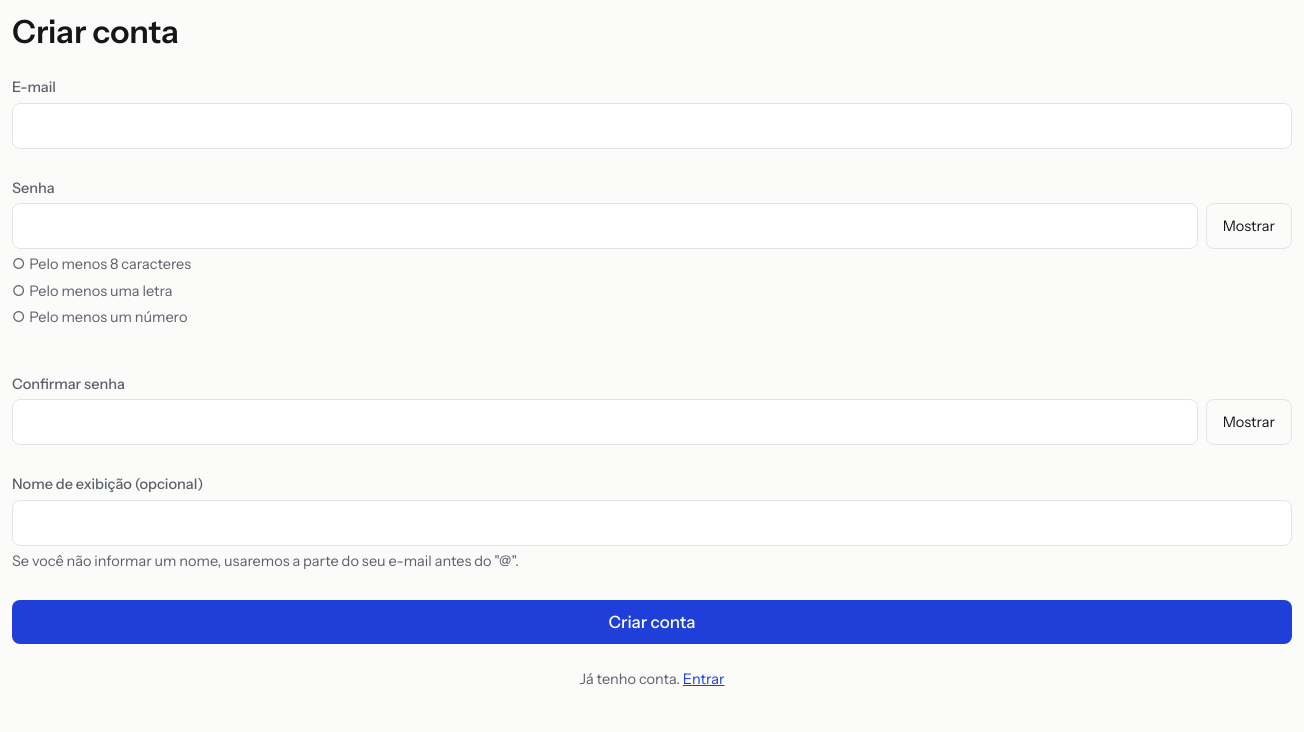
Test: RegisterComponent (FE-08) › e-mail inválido mostra erro junto ao campo antes do envio (CA-04)
Step 1. Type "invalido" into the field labelled "E-mail" → (652, 126), box [12,102,1292,148]
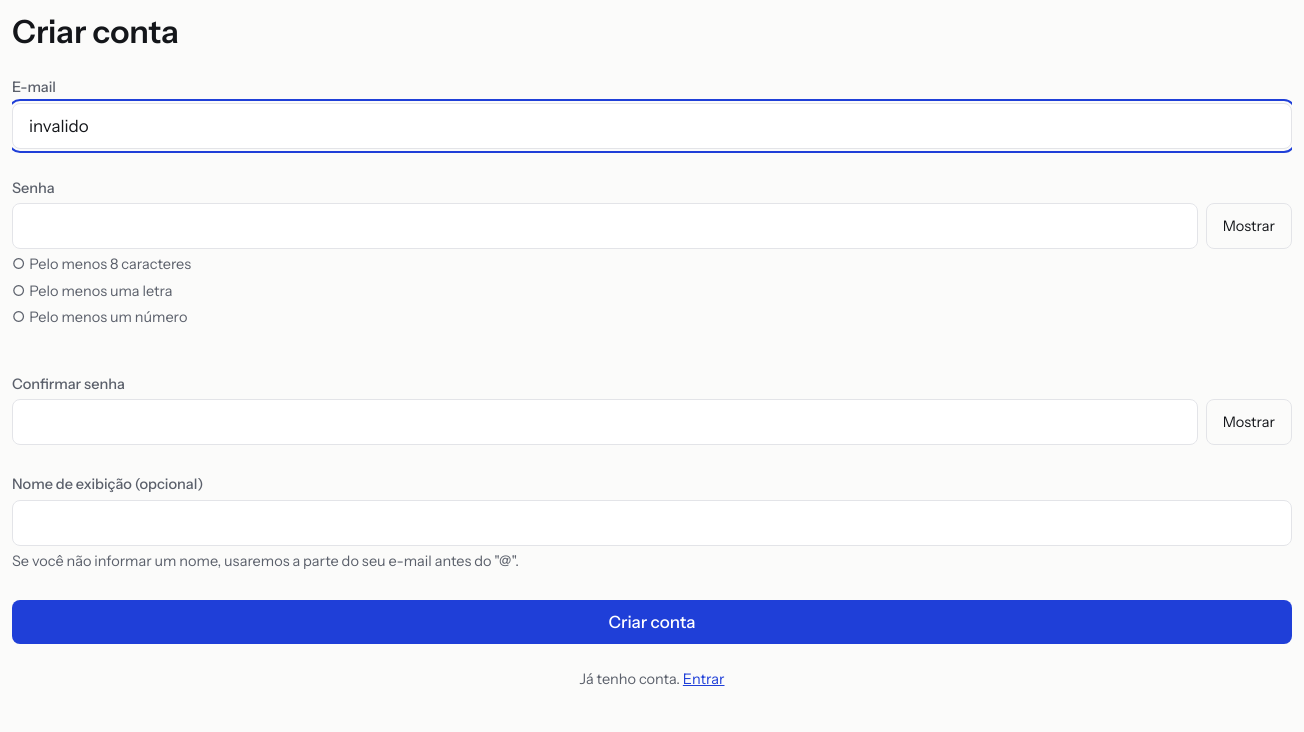
Step 2. Press Tab
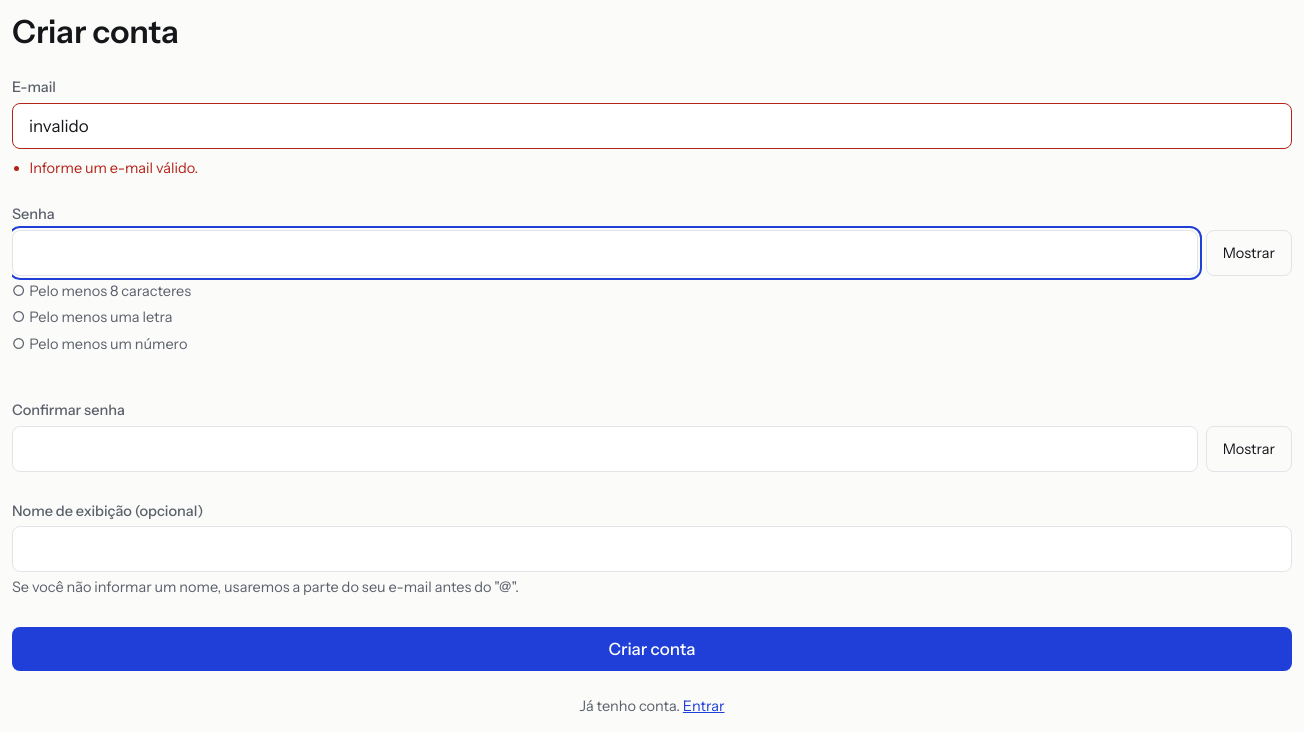
expect the list item "Informe um e-mail válido." is shown: met, box [30,158,198,176]
